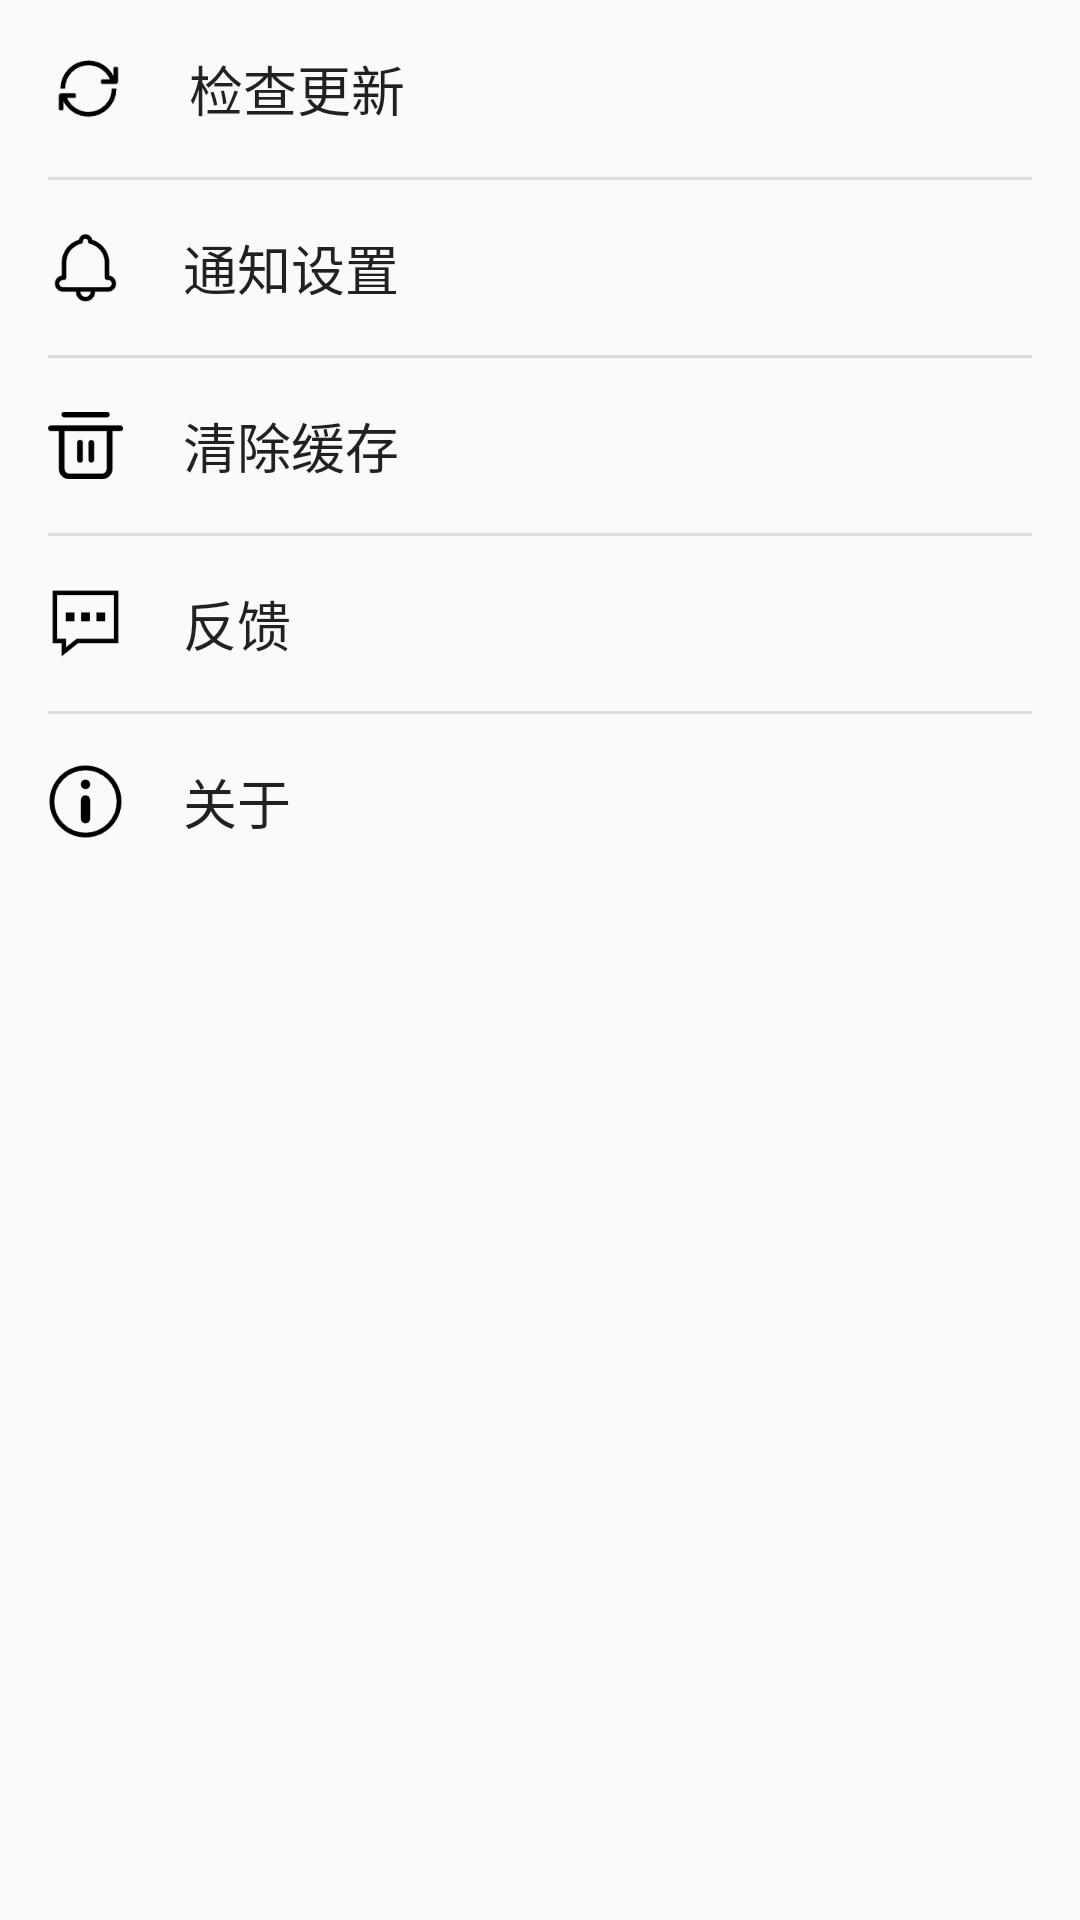

Where to tap for icons on this 1080×1920 app screen, as (x,y):
about: (85,801)
check update: (88,88)
clear cache: (85,445)
feedback: (85,623)
notification setting: (85,268)
